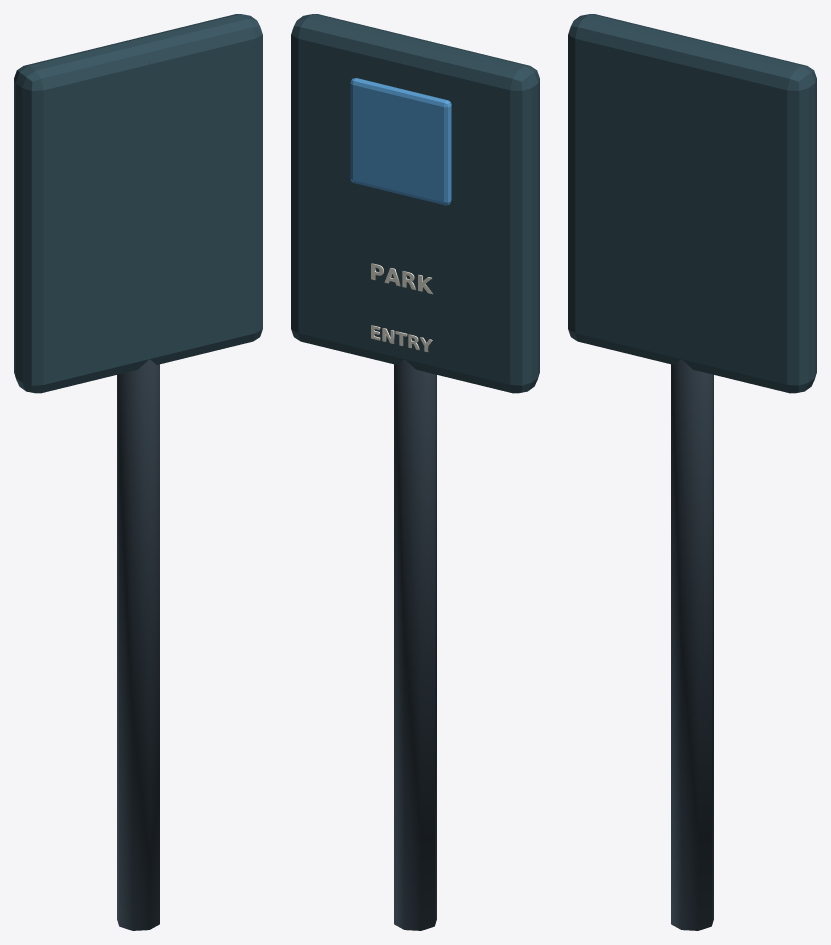
File: FeatureMedium.fbx
3 renders of one model, left to right at view 1: azimuth 30°, elevation 25°; view 2: azimuth 150°, elevation 25°; view 3: azimuth 330°, elevation 25°, orthographic.
Visible parts, largest first — view 1: Visual_FeatureMedium; view 2: Visual_FeatureMedium; view 3: Visual_FeatureMedium.
Part boxes in pixels (left/top/right/bottom): Visual_FeatureMedium: left=14, top=14, right=262, bottom=930; Visual_FeatureMedium: left=291, top=14, right=539, bottom=930; Visual_FeatureMedium: left=568, top=14, right=816, bottom=930.
Size of the model in its own units: 0.62 by 2.18 by 0.127.
